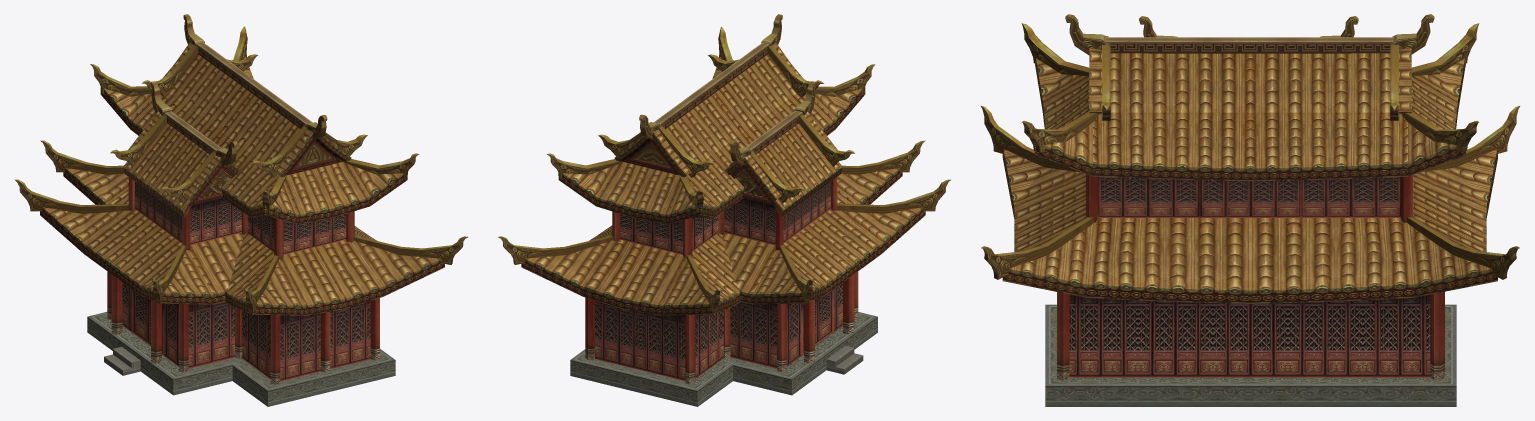
File: Yland1_fz_06 Yland1.FBX
3 views of the same model, side by side, from view 1: azimuth 30°, elevation 25°; view 2: azimuth 150°, elevation 25°; view 3: azimuth 270°, elevation 25° (orthographic). The views are drawn at different scales.
Visible parts, largest first — view 1: Yland1_fz_06 Yland1; view 2: Yland1_fz_06 Yland1; view 3: Yland1_fz_06 Yland1.
Part boxes in pixels (x1,y1,x2,y2): Yland1_fz_06 Yland1: (14, 14, 468, 406); Yland1_fz_06 Yland1: (498, 14, 950, 406); Yland1_fz_06 Yland1: (981, 14, 1519, 406).
Bounding box in the file's own units: 12.46 × 11.34 × 15.76.
